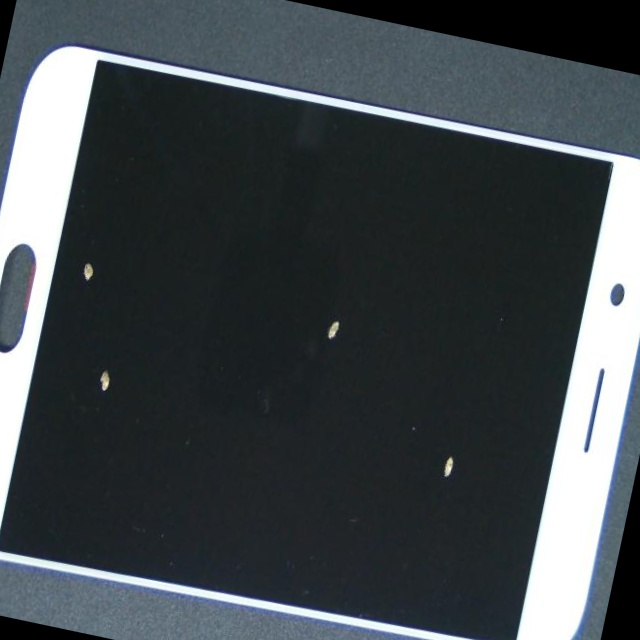stain: (112, 233, 640, 640), (146, 138, 566, 489), (19, 160, 245, 568), (0, 158, 171, 502)
